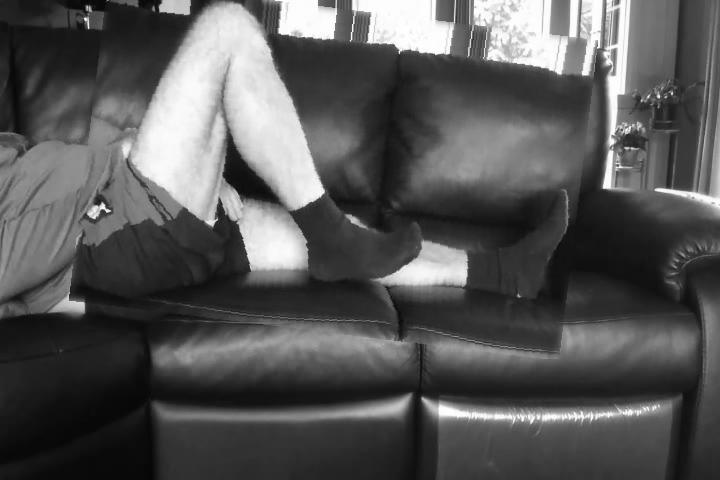lowerbody: (79, 1, 590, 346)
